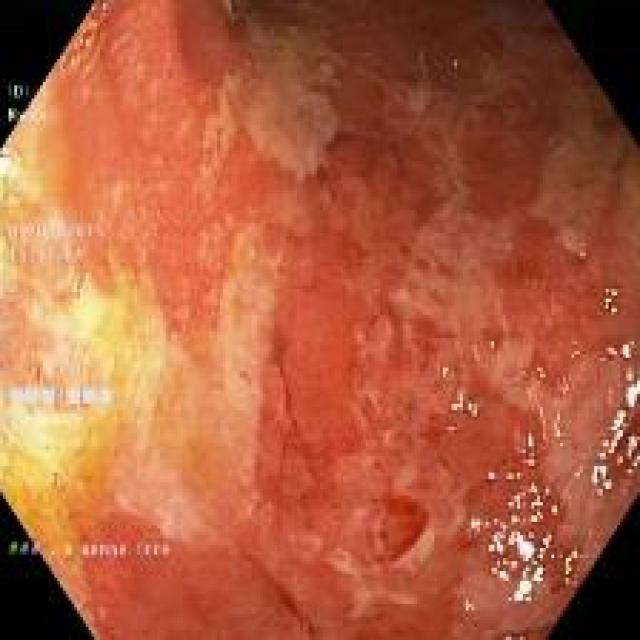ulcerative-colitis-grade-3: (0, 3, 640, 638)
